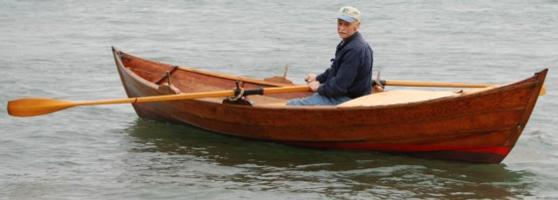person: (287, 7, 375, 106)
